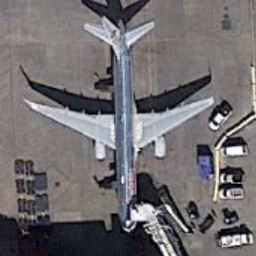Airplane: (10, 12, 221, 238)
